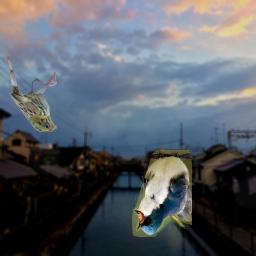Sparrow: (3, 52, 57, 132)
Swallow: (132, 150, 192, 237)
